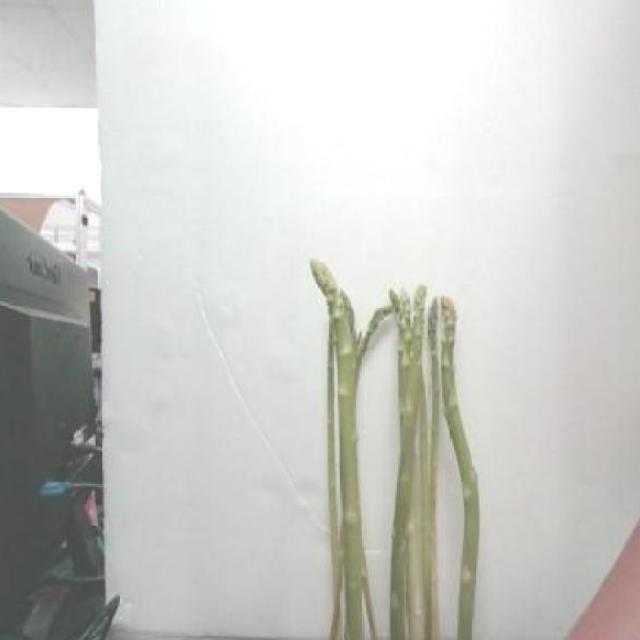aspargus: (319, 266, 488, 640)
